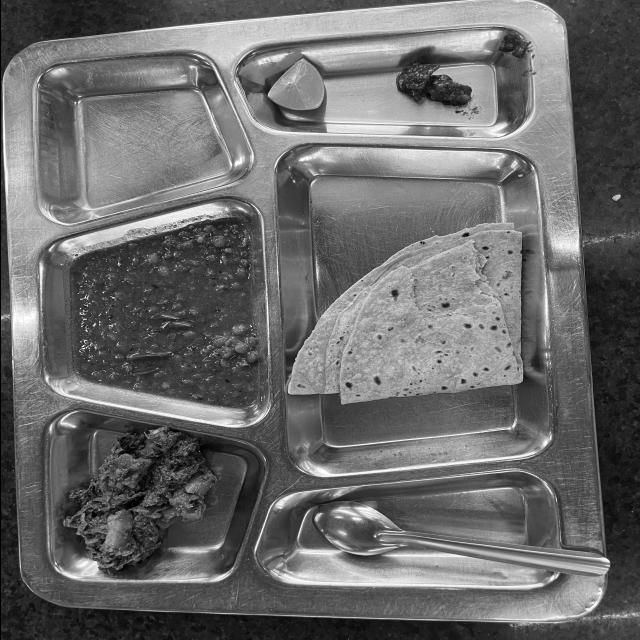50.0- Food Left: (49, 11, 569, 587)
